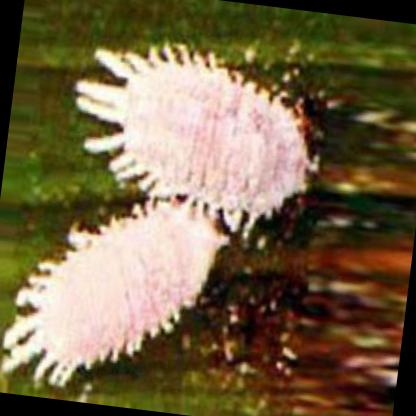mealy bug: (73, 51, 316, 221), (1, 201, 219, 389)
